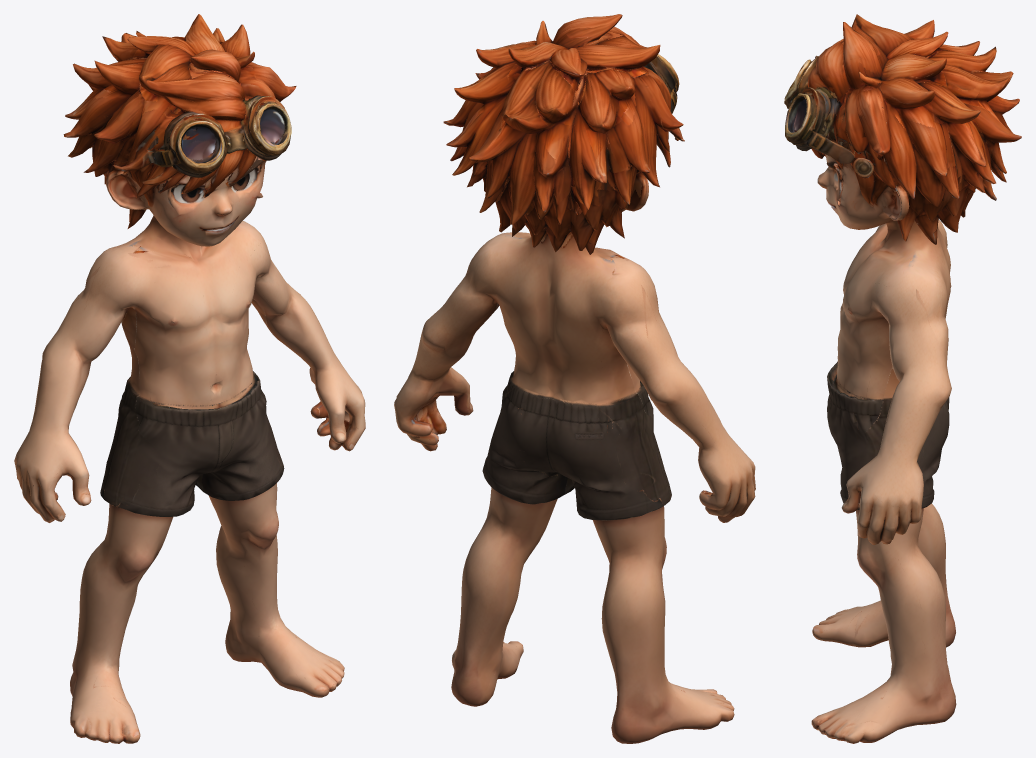
Rendered from body.glb.
3 views of the same model, side by side, from view 1: azimuth 30°, elevation 25°; view 2: azimuth 150°, elevation 25°; view 3: azimuth 270°, elevation 25° (orthographic). The views are drawn at different scales.
Parts seen in each view (by area): view 1: texture_mapping; view 2: texture_mapping; view 3: texture_mapping.
Part boxes in pixels (<box>): texture_mapping: <box>14,14,365,743</box>; texture_mapping: <box>394,14,755,743</box>; texture_mapping: <box>784,14,1021,743</box>.
Bounding box in the file's own units: 0.5276 × 0.9979 × 0.3281.
1 material, 1 textured.
